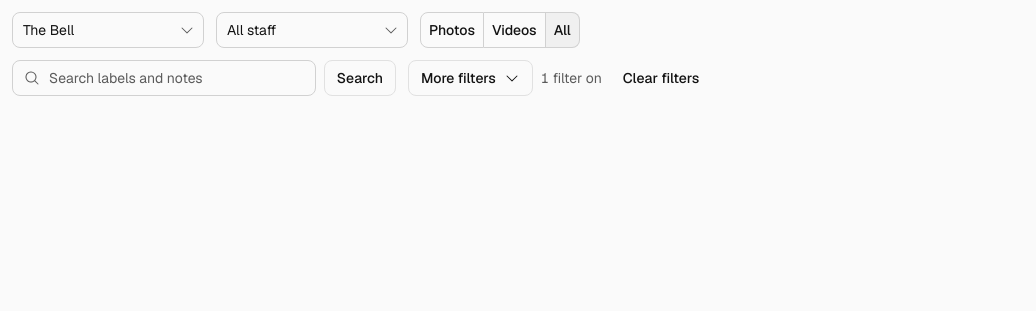
Scenario: LibraryFilters more filters › waits for the menu of a newly chosen venue
The width and height of the screenshot is (1036, 311).
Click the button "More filters": coordinates (470, 78) [408,60,533,96]
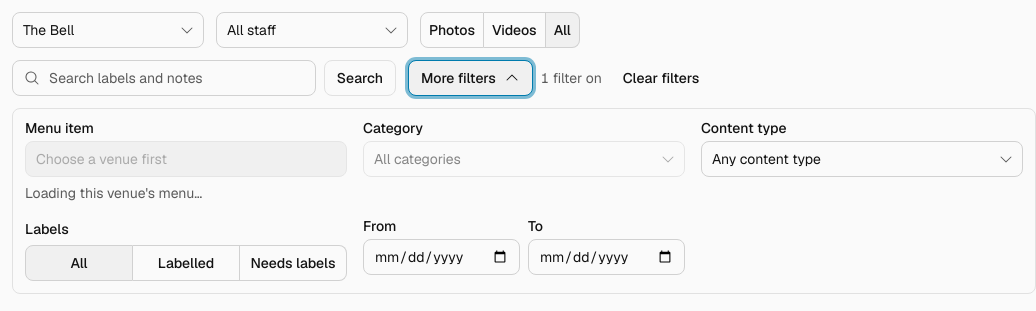
Expected: the dropdown labelled "Menu item" is disabled, [25,141,347,177]
Expected: the text "Loading this venue's menu…" is shown, [25,184,202,202]
